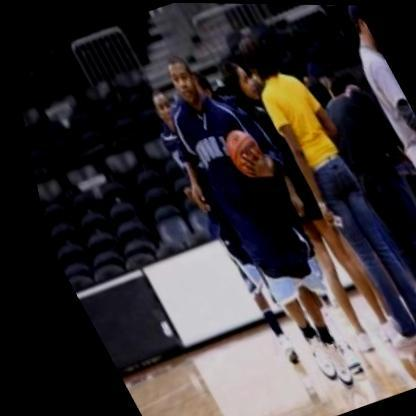basketball: (204, 120, 275, 188)
